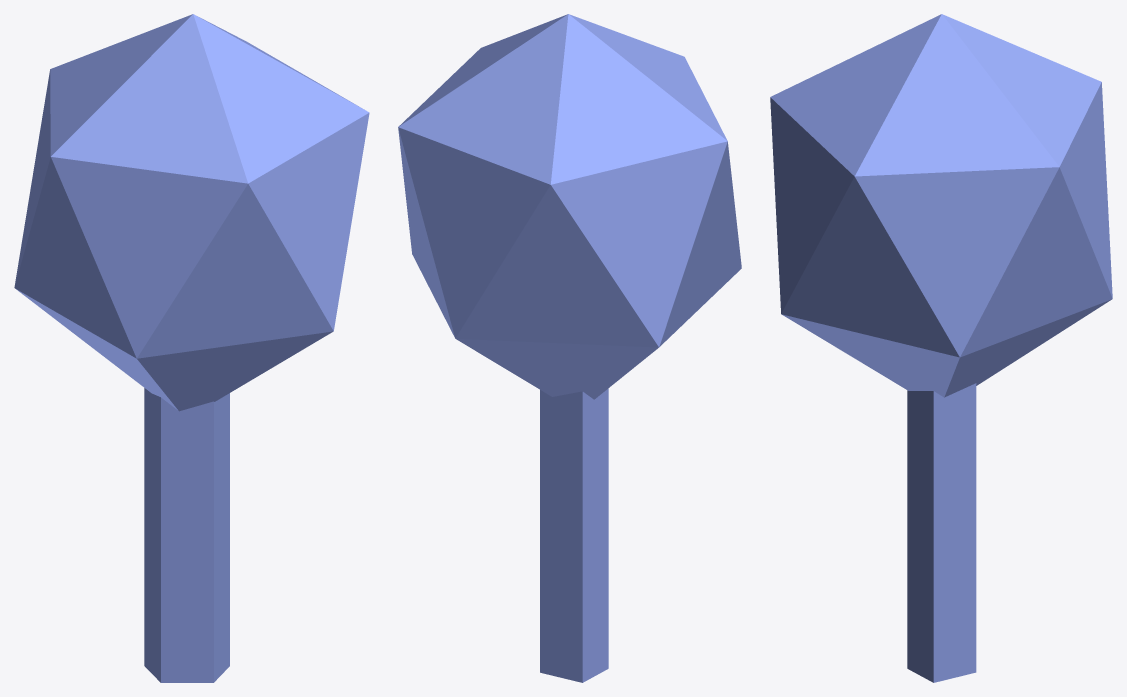
File: tree.fbx
3 renders of one model, left to right at view 1: azimuth 30°, elevation 25°; view 2: azimuth 150°, elevation 25°; view 3: azimuth 270°, elevation 25°, orthographic.
Visible parts, largest first — view 1: Cylinder.001; view 2: Cylinder.001; view 3: Cylinder.001.
Boxes of the visible parts, x1,y1,x2,y2 form: Cylinder.001: [14, 14, 369, 682]; Cylinder.001: [398, 14, 741, 682]; Cylinder.001: [770, 14, 1112, 682].
Size of the model in its own units: 13.39 by 13.5 by 28.16.
